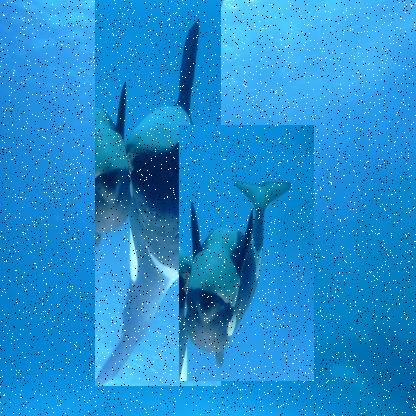killer_whale: (95, 0, 222, 387), (179, 125, 315, 382)
